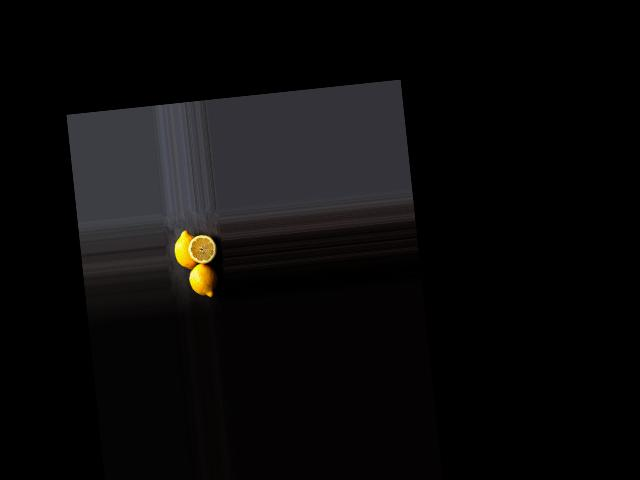lemon: (169, 227, 201, 271)
